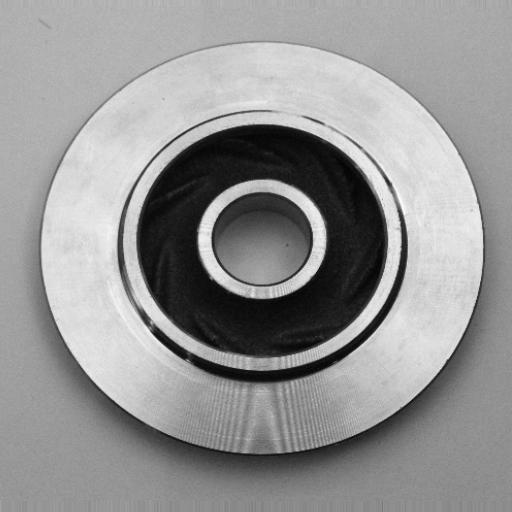scratch: (250, 97, 333, 138)
unpolished_casting: (38, 38, 487, 460)
